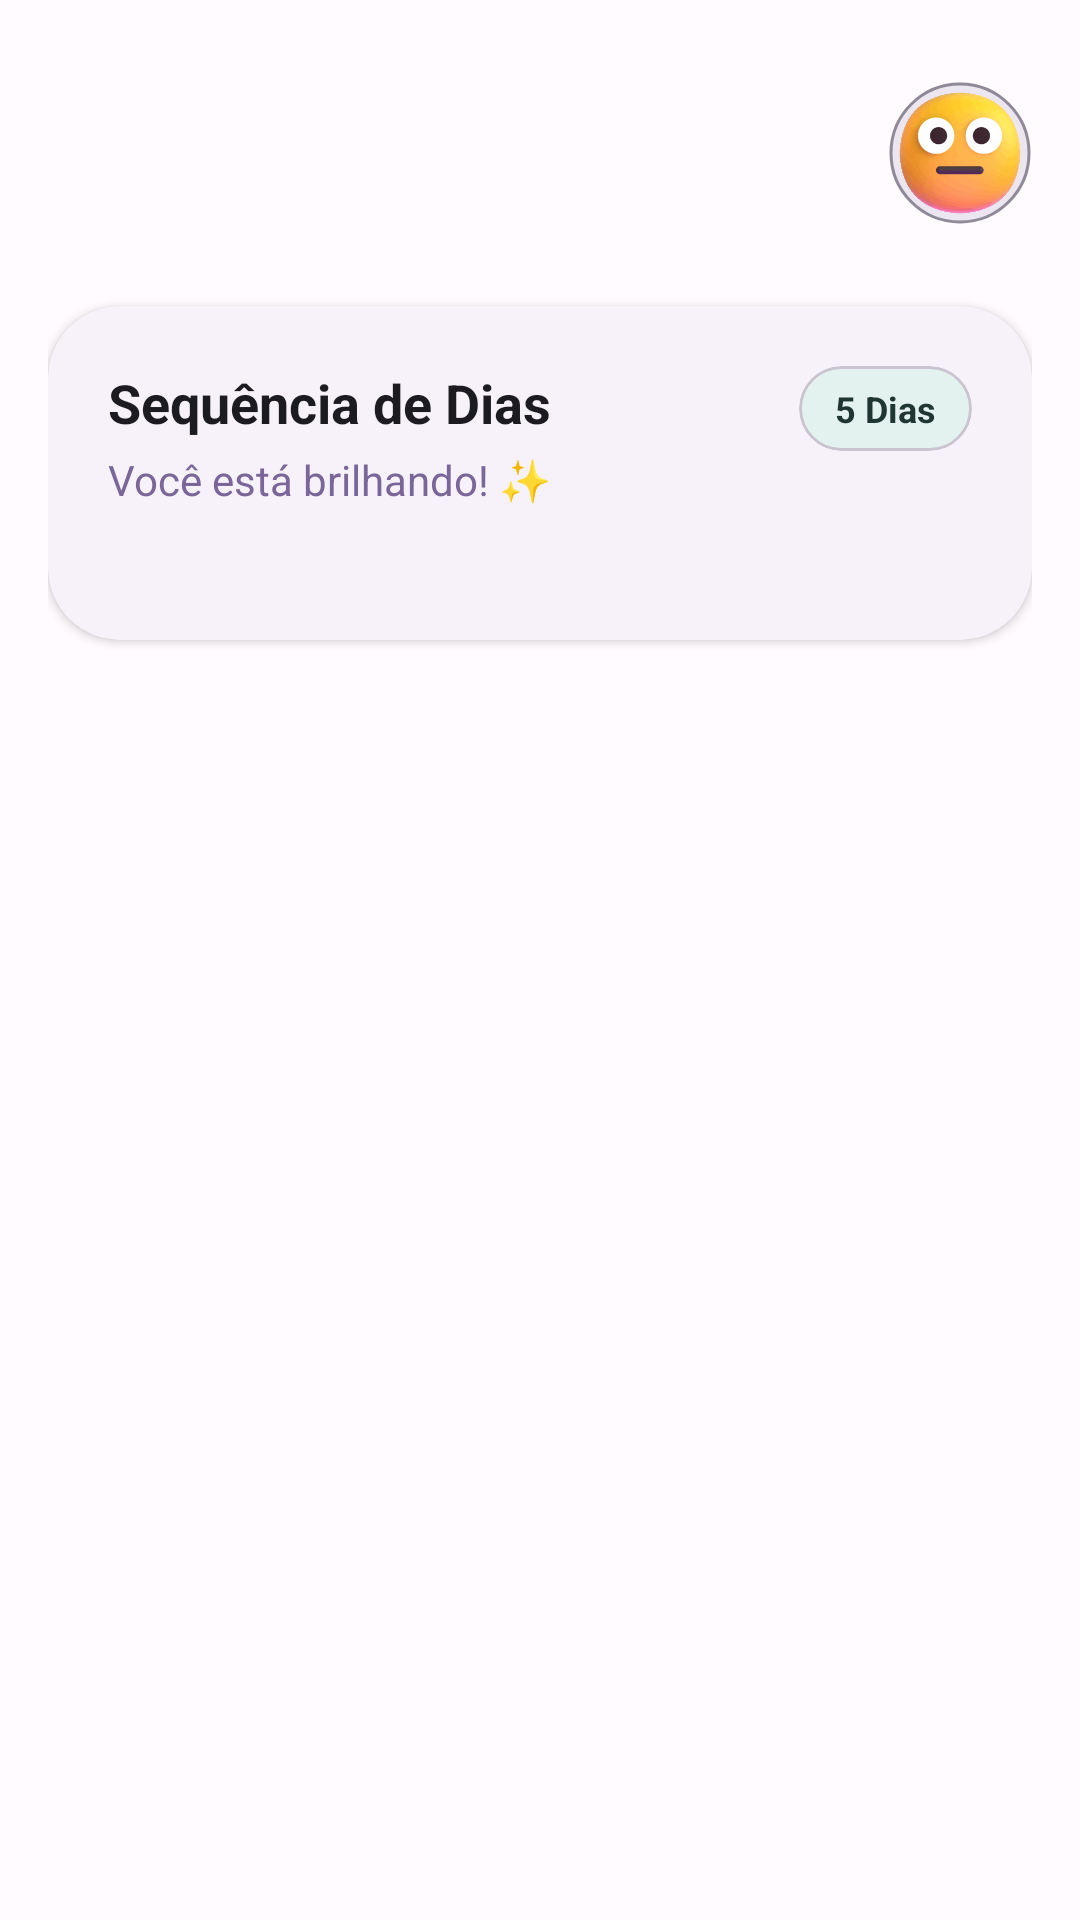

Icon bounding boxes for this 1080px x 1920px phone screenshot, format region(x1, y1, x2, y2):
mood neutral anim: region(889, 82, 1031, 224)
